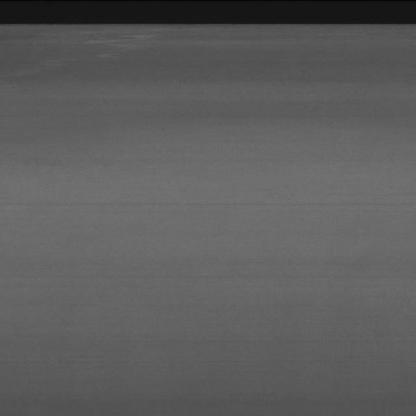silk_spot: (70, 26, 201, 64)
